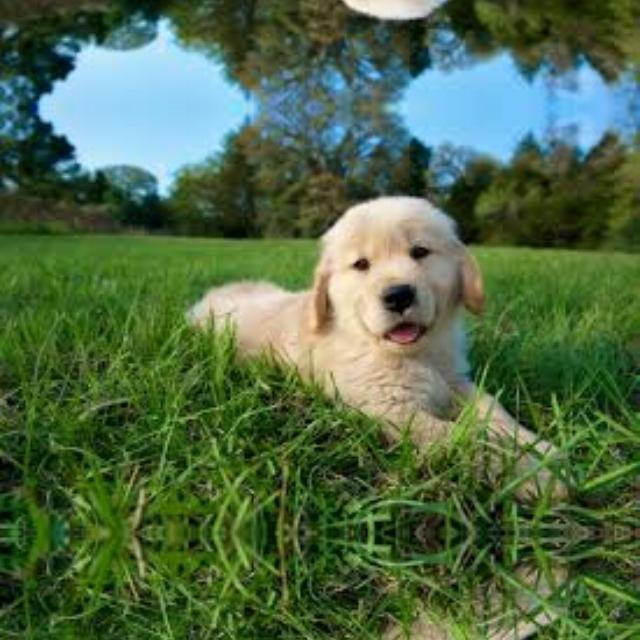dog: (300, 194, 504, 390), (299, 0, 504, 19)
